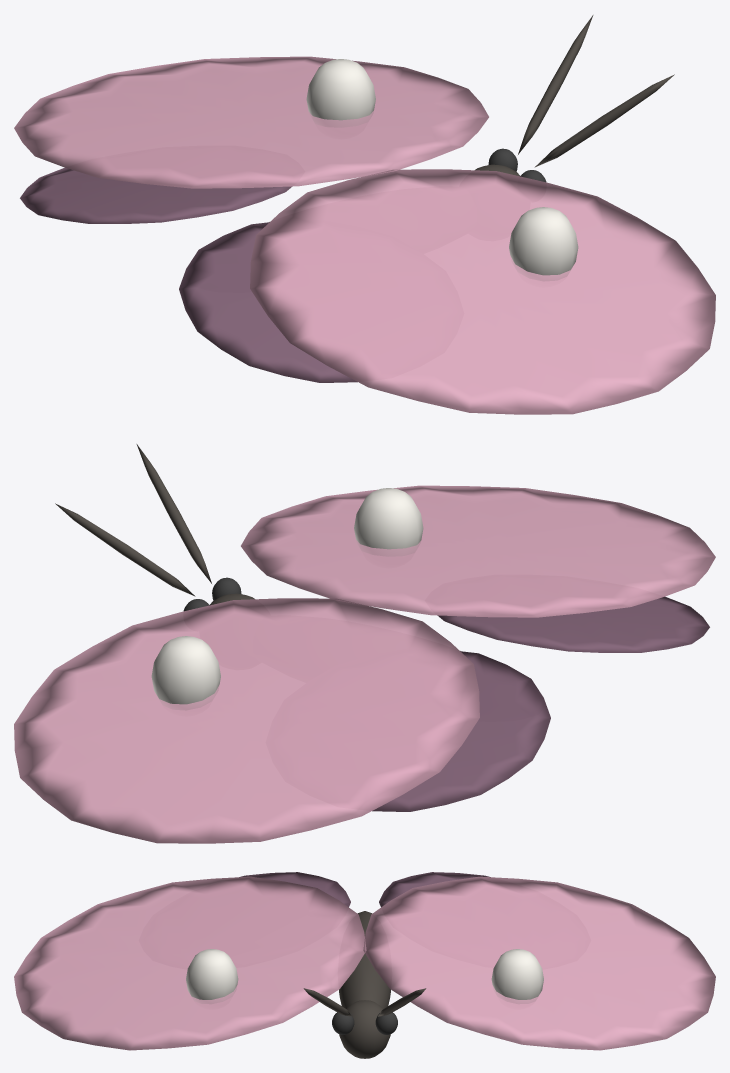
The model's file is butterfly.glb.
3 views of the same model, one above another, from view 1: azimuth 30°, elevation 25°; view 2: azimuth 150°, elevation 25°; view 3: azimuth 270°, elevation 25° (orthographic). The views are drawn at different scales.
Parts seen in each view (by area): view 1: org_butterfly; view 2: org_butterfly; view 3: org_butterfly.
Boxes of the visible parts, bbox=[...] form: org_butterfly: bbox=[14, 15, 715, 414]; org_butterfly: bbox=[14, 444, 715, 843]; org_butterfly: bbox=[14, 872, 715, 1058].
Bounding box in the file's own units: 0.2063 × 0.0608 × 0.3215.
